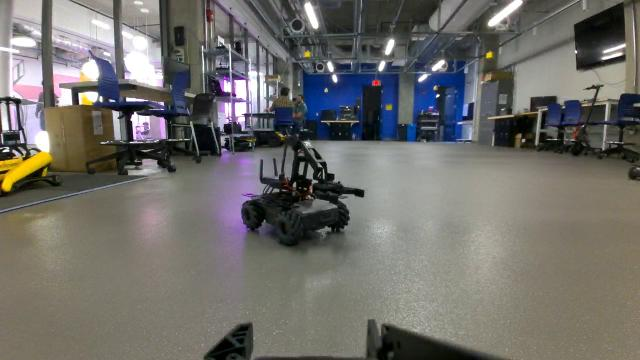robot: (240, 121, 368, 248)
